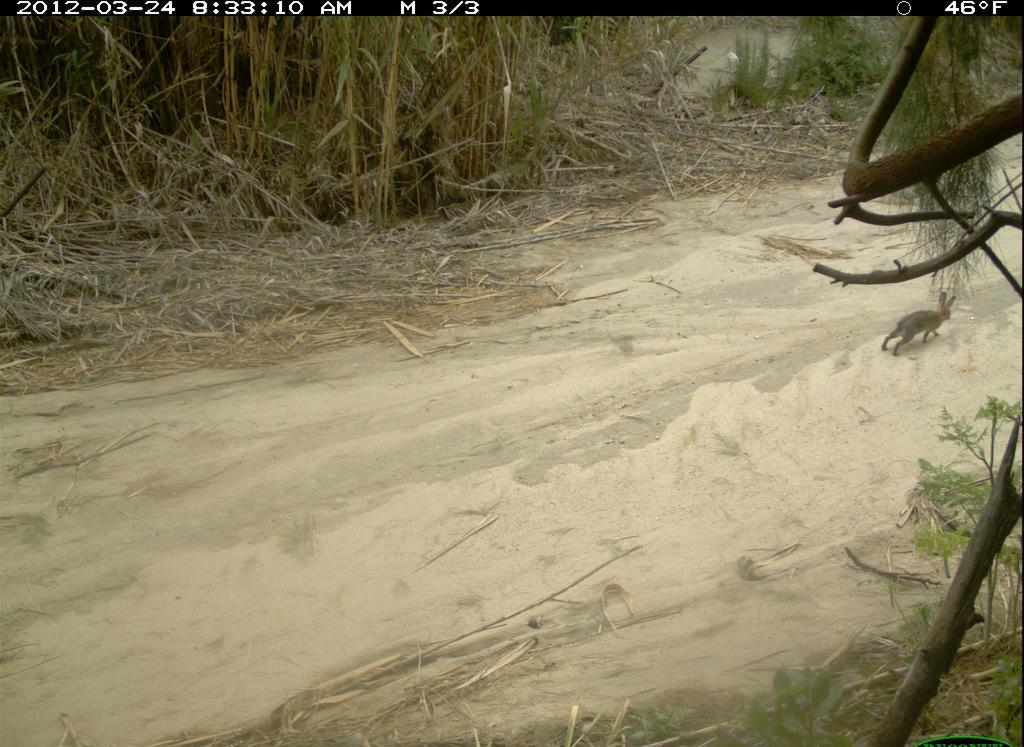rabbit: (857, 273, 977, 361)
